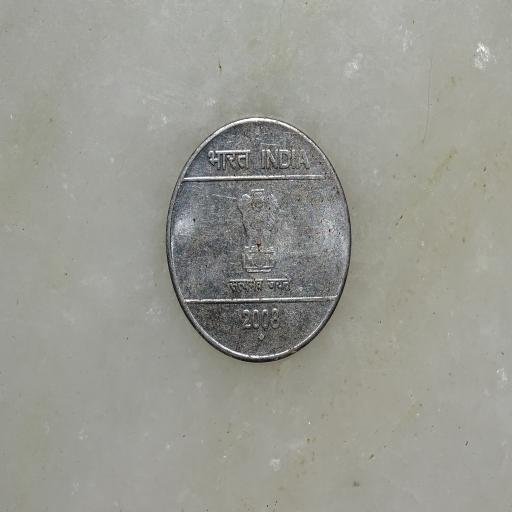rupee2: (165, 118, 352, 361)
